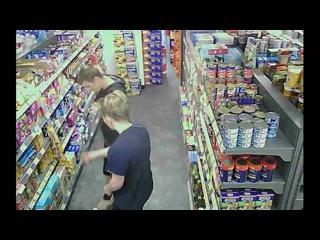Normal: (81, 90, 154, 210), (75, 65, 129, 174)
